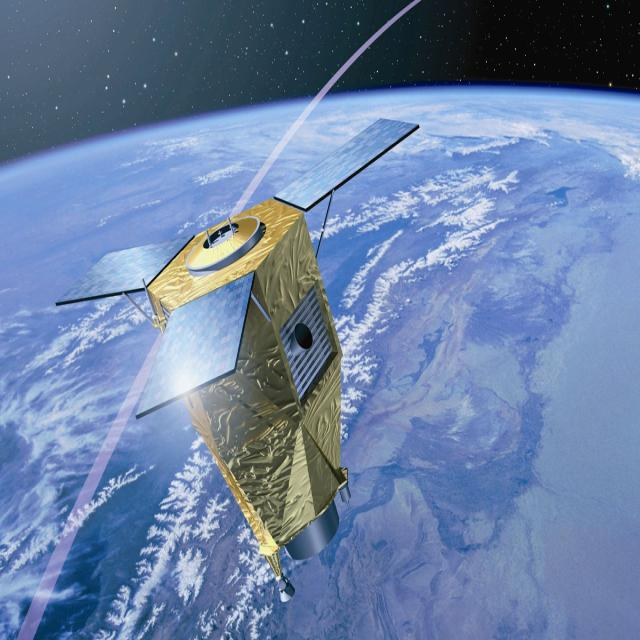satellite: (52, 81, 427, 613)
